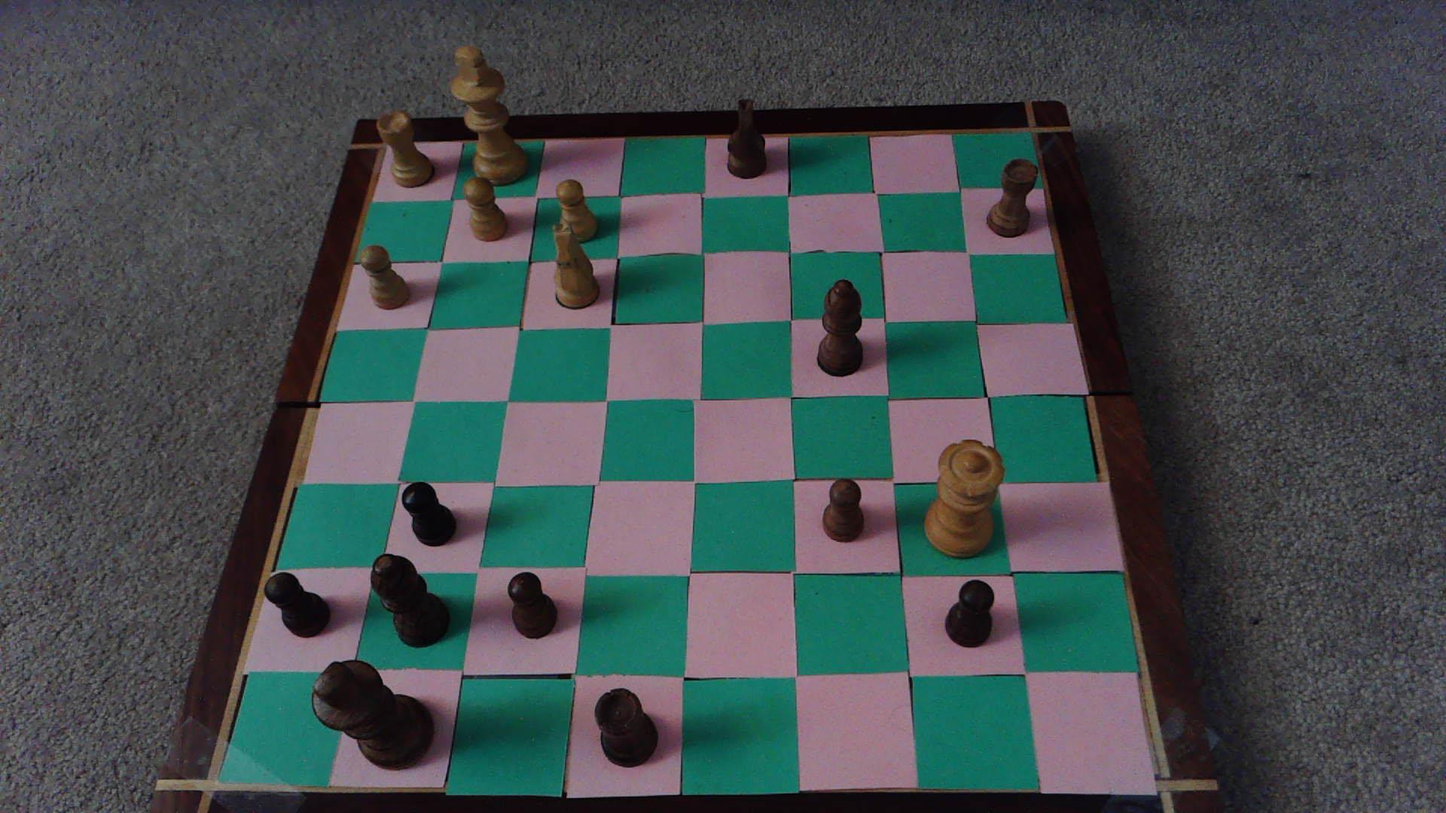dark_piece: (313, 660, 432, 769), (372, 554, 449, 647), (595, 688, 657, 766), (817, 279, 862, 375), (264, 573, 329, 637), (987, 158, 1037, 236), (402, 482, 455, 546), (508, 572, 557, 638), (946, 580, 993, 647), (728, 99, 765, 178), (822, 479, 863, 541)
white_piece: (450, 46, 527, 184), (924, 440, 1004, 557), (377, 112, 435, 189), (550, 224, 601, 309), (360, 246, 410, 310), (463, 178, 508, 241), (555, 180, 598, 242)
